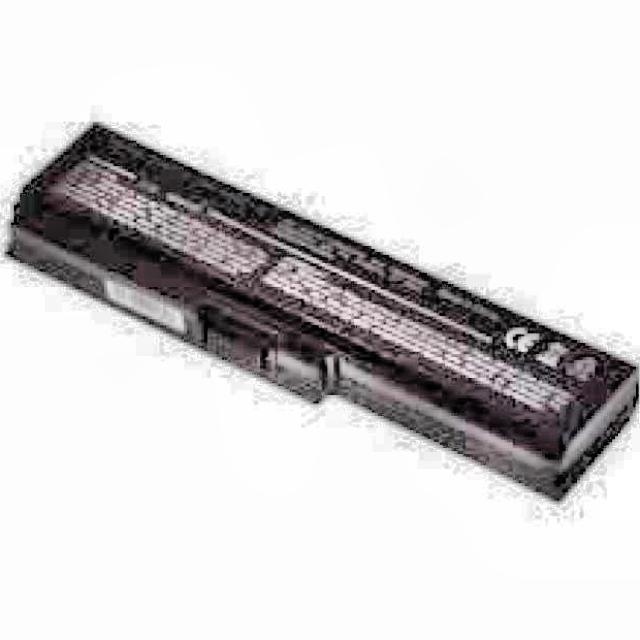battery: (11, 122, 636, 498)
